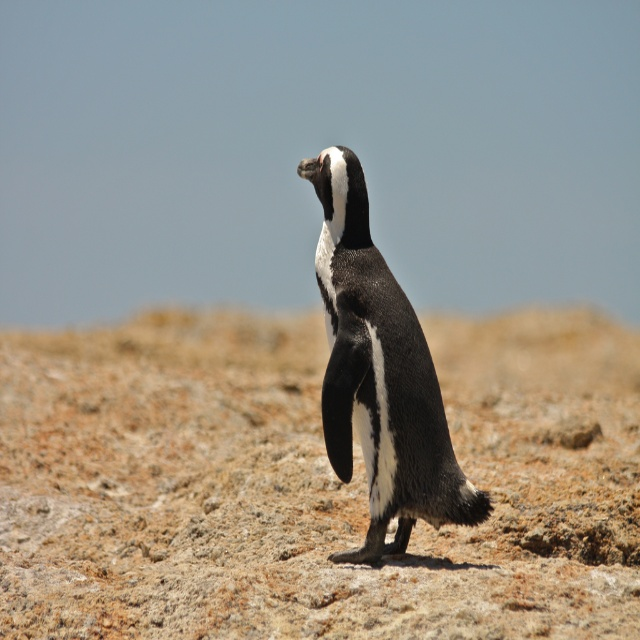Penguin: (296, 145, 496, 562)
